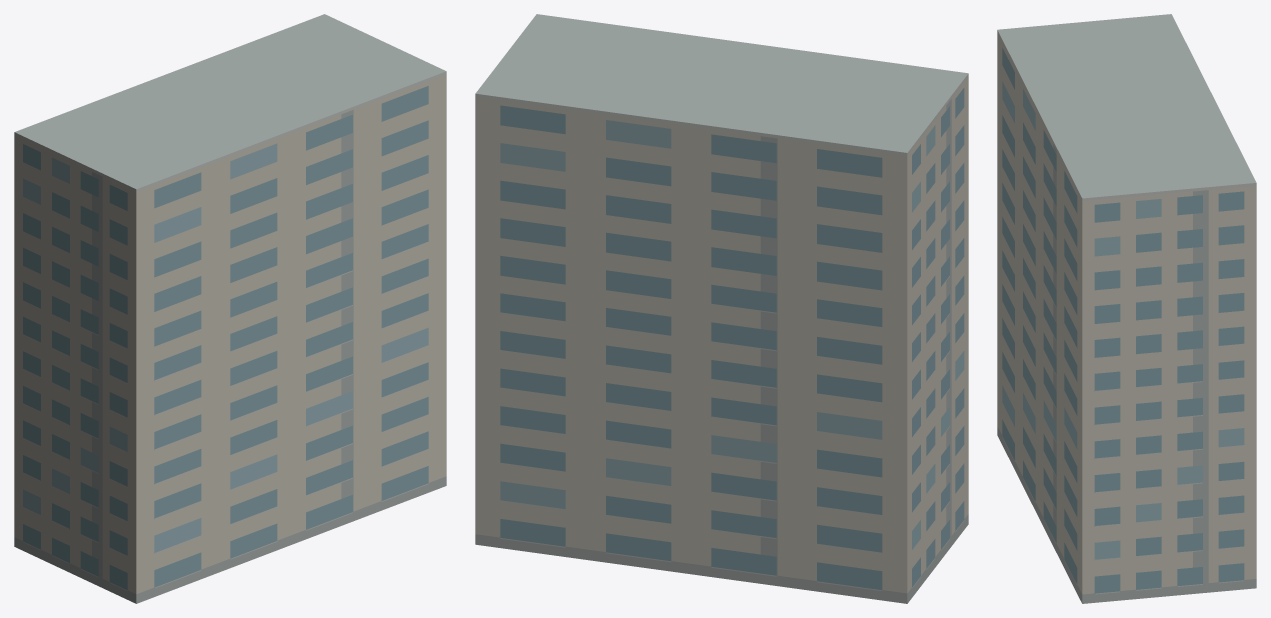
File: residential-d7881efc-c7cb-4618-8a08-684016cc8bdc.glb
The picture shows the model from 3 angles, left to right: view 1: azimuth 30°, elevation 25°; view 2: azimuth 150°, elevation 25°; view 3: azimuth 270°, elevation 25°; orthographic projection. The views are drawn at different scales.
Visible parts, largest first — view 1: residential-d7881efc-c7cb-4618-8a08-684016cc8bdc.tmp; view 2: residential-d7881efc-c7cb-4618-8a08-684016cc8bdc.tmp; view 3: residential-d7881efc-c7cb-4618-8a08-684016cc8bdc.tmp.
Part boxes in pixels (<box>): residential-d7881efc-c7cb-4618-8a08-684016cc8bdc.tmp: <box>14,14,446,603</box>; residential-d7881efc-c7cb-4618-8a08-684016cc8bdc.tmp: <box>475,14,968,603</box>; residential-d7881efc-c7cb-4618-8a08-684016cc8bdc.tmp: <box>997,14,1256,603</box>.
Bounding box in the file's own units: 32.2 × 33 × 19.14.
